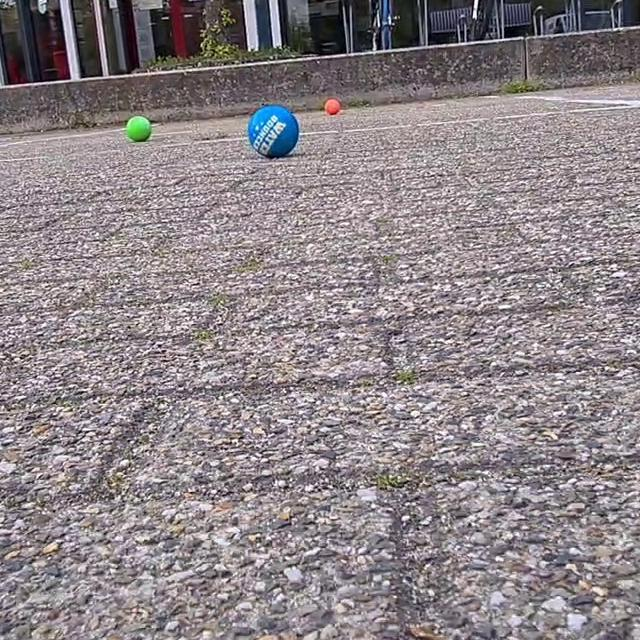ball: (125, 114, 152, 146)
